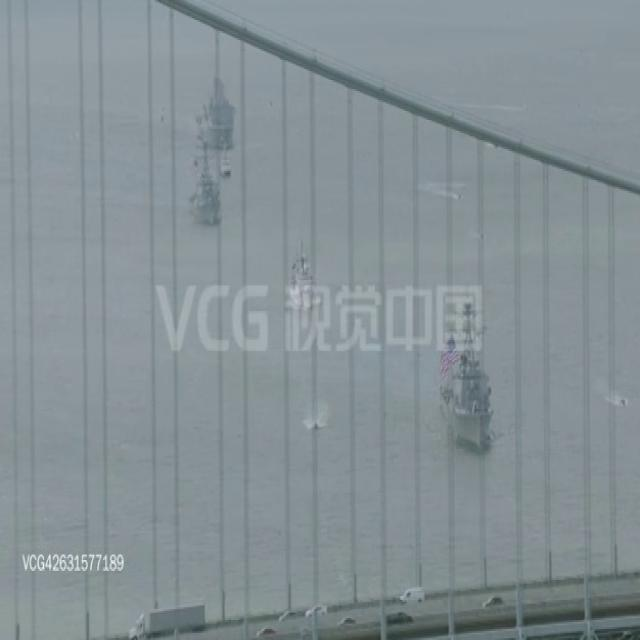houseboat: (216, 151, 232, 178), (307, 418, 323, 436), (620, 391, 628, 410), (456, 186, 464, 202)
navalvessels: (439, 295, 494, 448), (195, 61, 238, 147), (185, 133, 223, 224), (288, 240, 316, 310)
